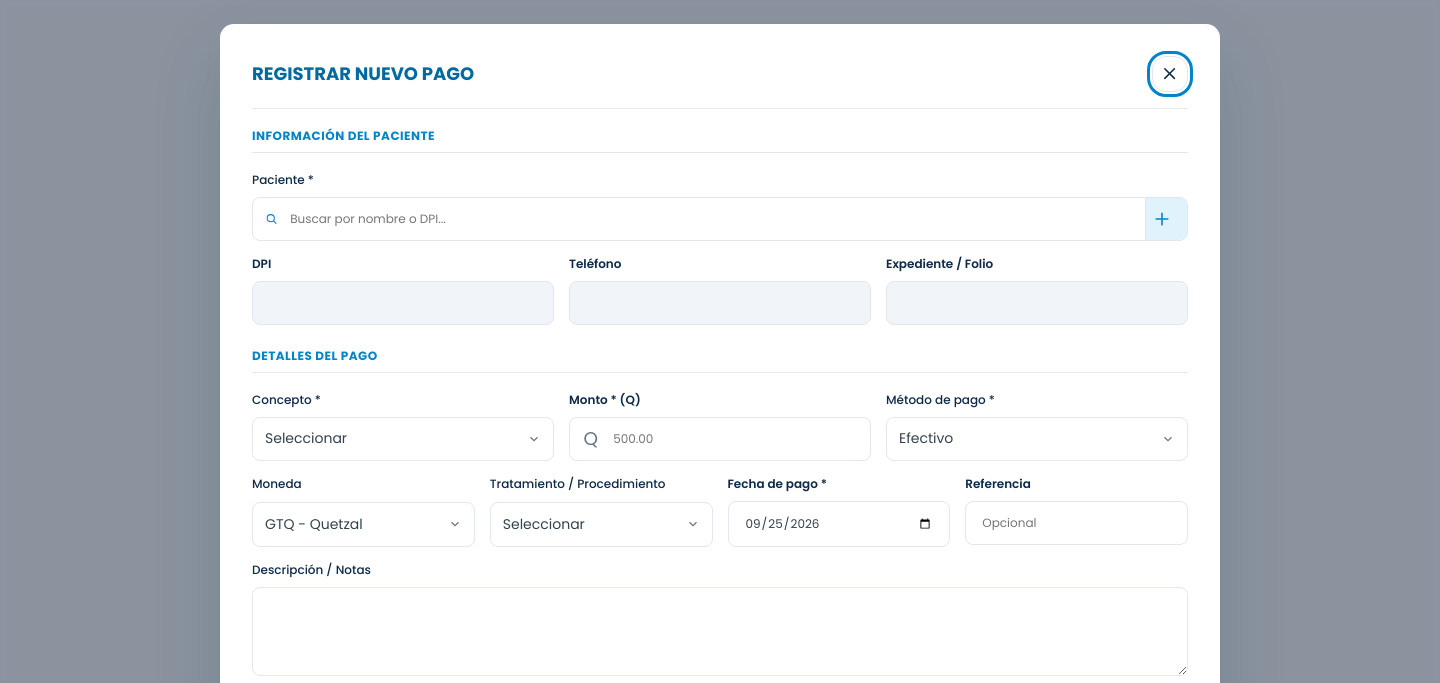
Flujos clínicos › autocompleta y reemplaza los datos al cambiar de paciente en pagos
Type "3170626701302" into the dropdown labelled "Paciente *" at point(712, 219), box 278,198 -> 1145,240
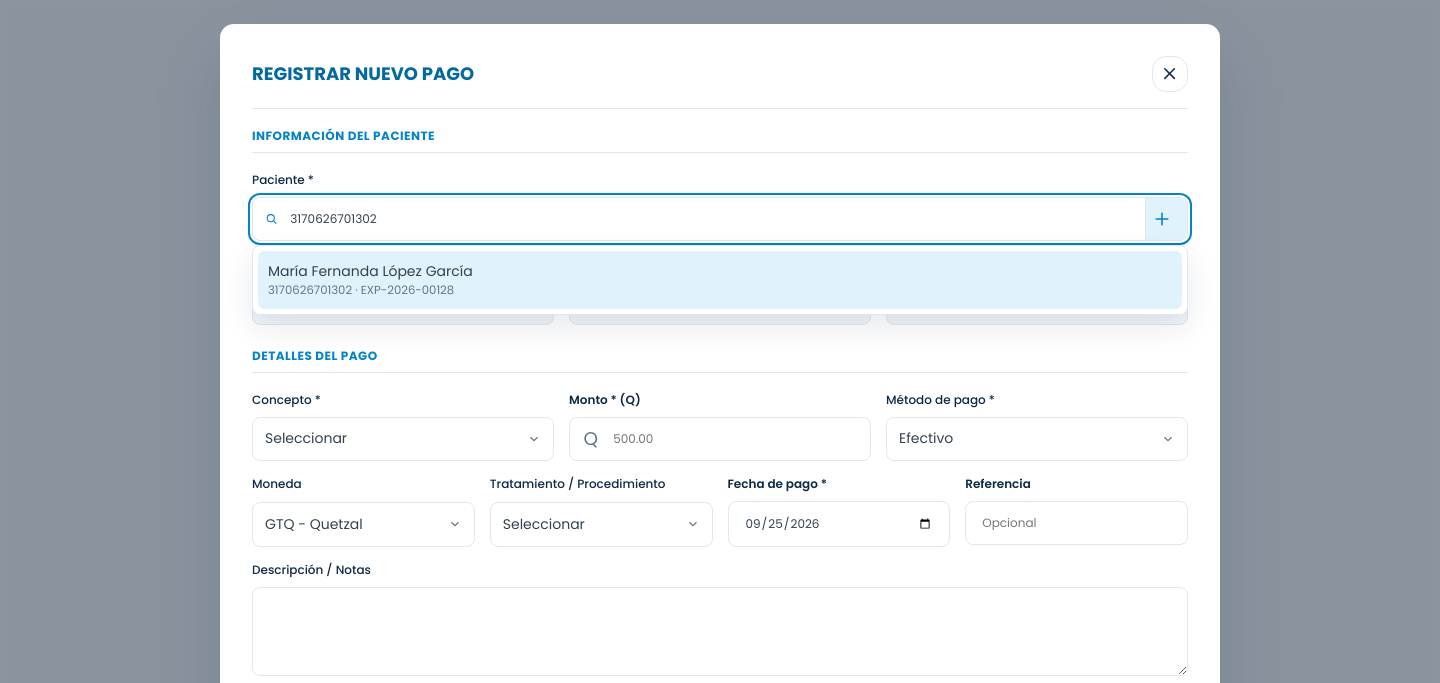
Click the option "María Fernanda López García 3170626701302 · EXP-2026-00128" at point(370, 271), box 258,251 -> 1182,309
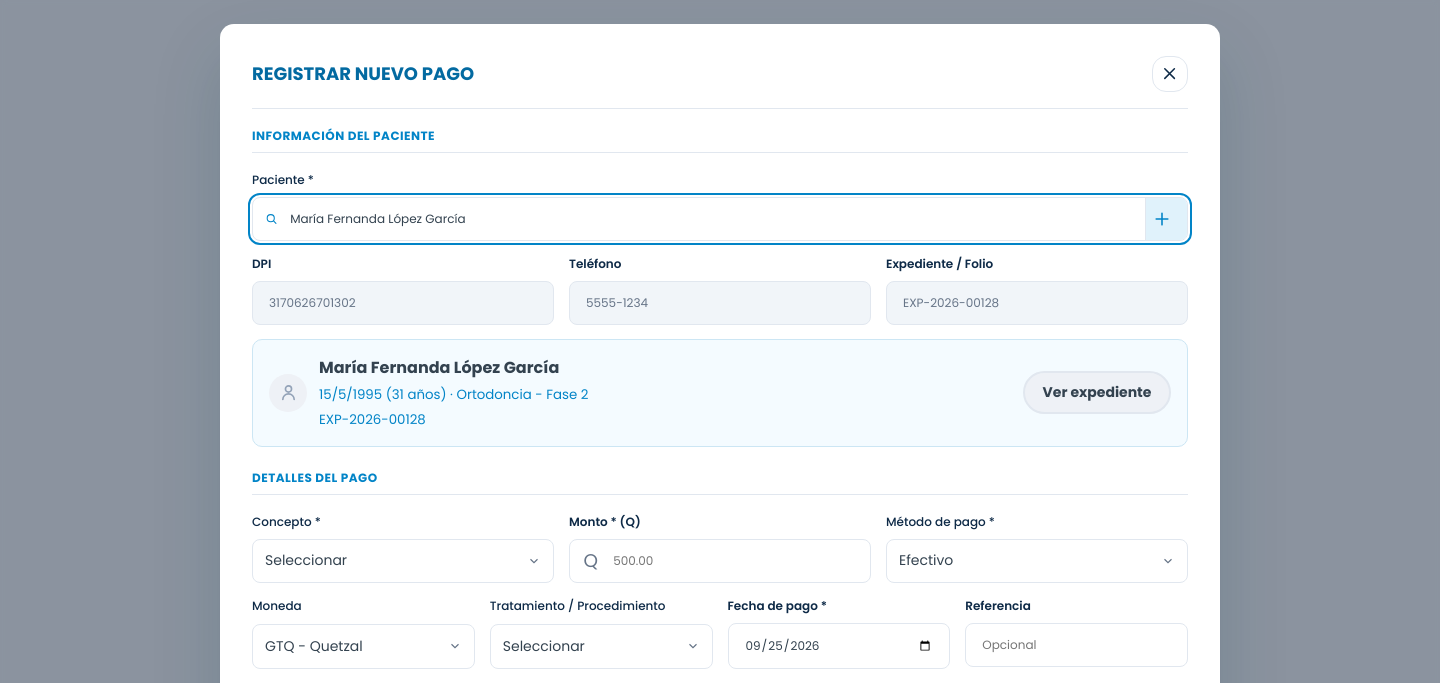
Now the field labelled "DPI" holds "3170626701302", box 252,281 -> 554,325
Now the field labelled "Teléfono" holds "5555-1234", box 569,281 -> 871,325
Now the field labelled "Expediente / Folio" holds "EXP-2026-00128", box 886,281 -> 1188,325
Type "123456780101" into the dropdown labelled "Paciente *" at point(712, 219), box 278,198 -> 1145,240
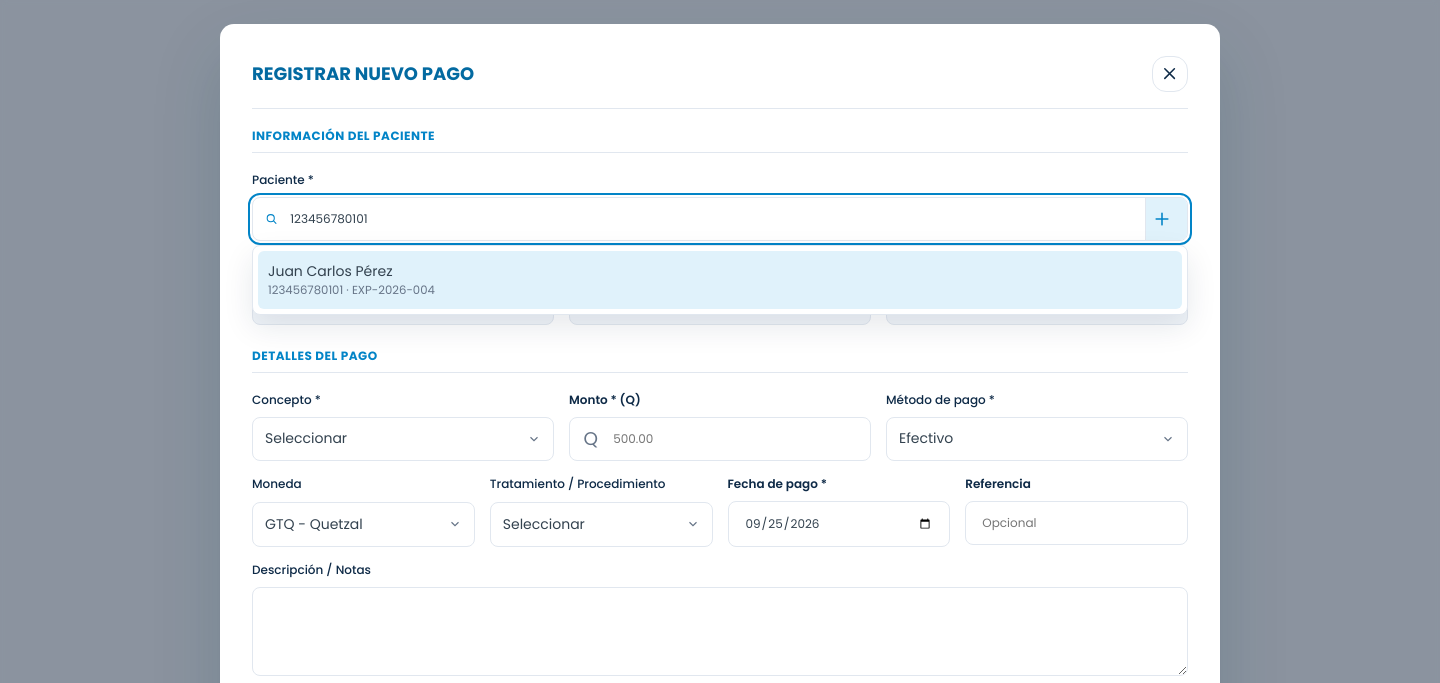
Click the option "Juan Carlos Pérez 123456780101 · EXP-2026-004" at point(330, 271), box 258,251 -> 1182,309
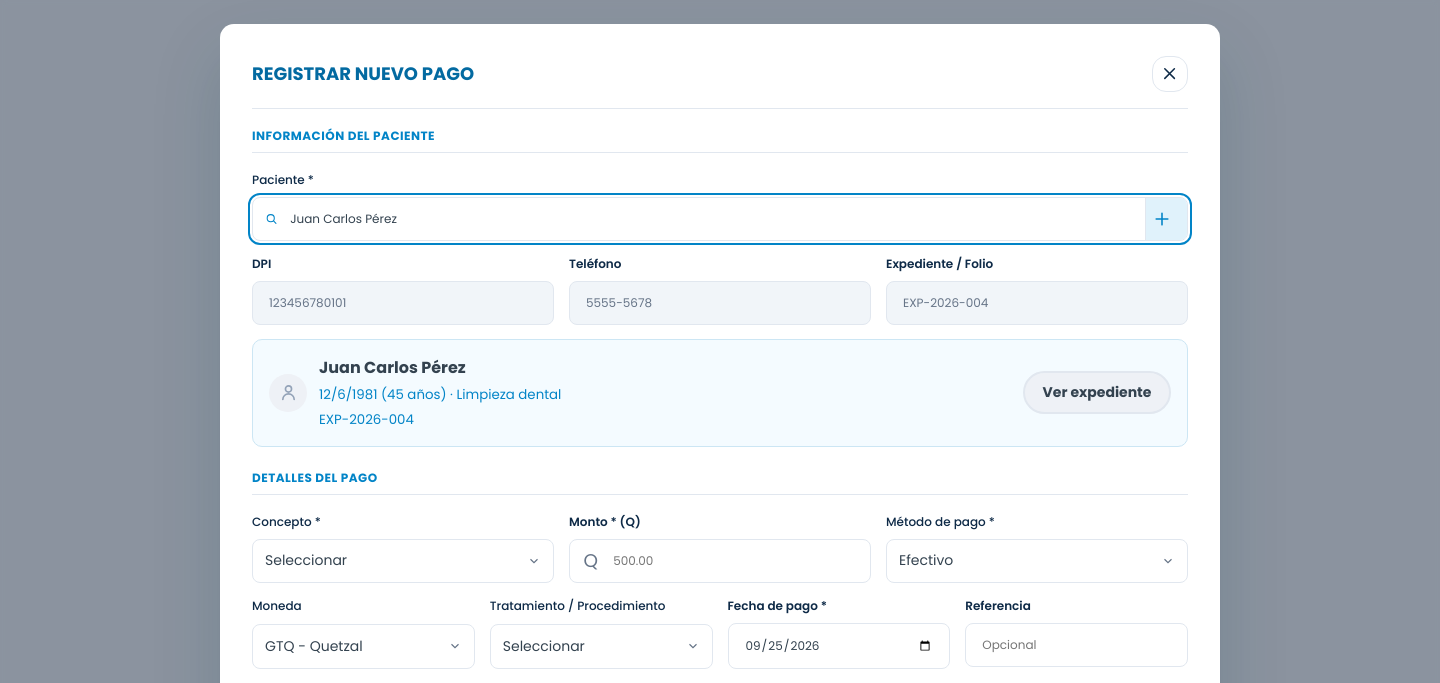
Now the field labelled "DPI" holds "123456780101", box 252,281 -> 554,325
Now the field labelled "Teléfono" holds "5555-5678", box 569,281 -> 871,325
Now the field labelled "Expediente / Folio" holds "EXP-2026-004", box 886,281 -> 1188,325
Type "nadie-encontrado" into the dropdown labelled "Paciente *" at point(712, 219), box 278,198 -> 1145,240
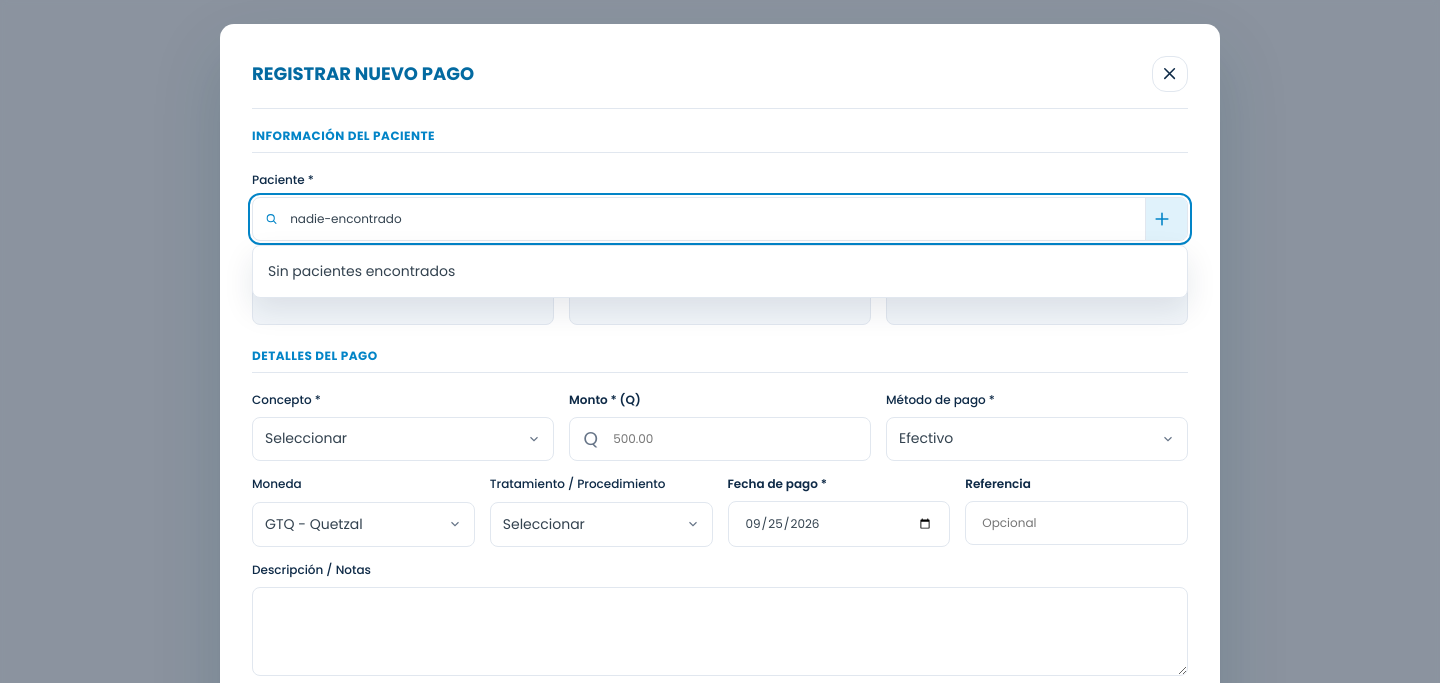
Now the field labelled "DPI" is empty, box 252,281 -> 554,325
Now the list item "Sin pacientes encontrados" is shown, box 268,261 -> 455,281
